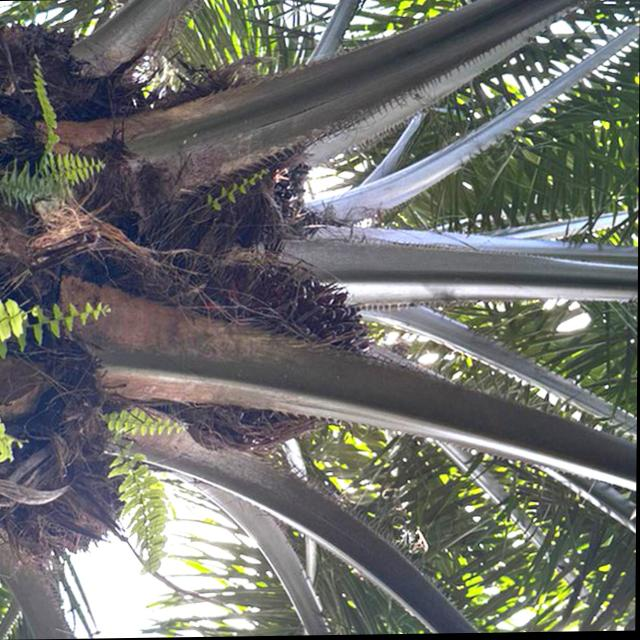ripe: (173, 251, 399, 474)
